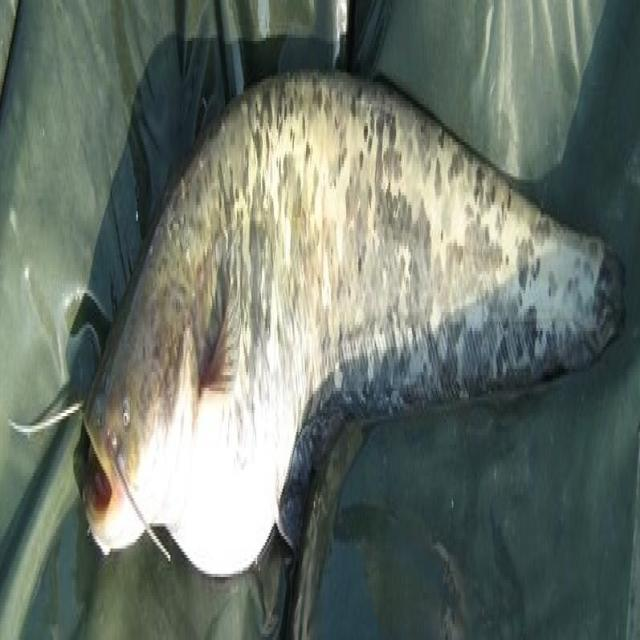Catfish: (63, 20, 632, 615)
